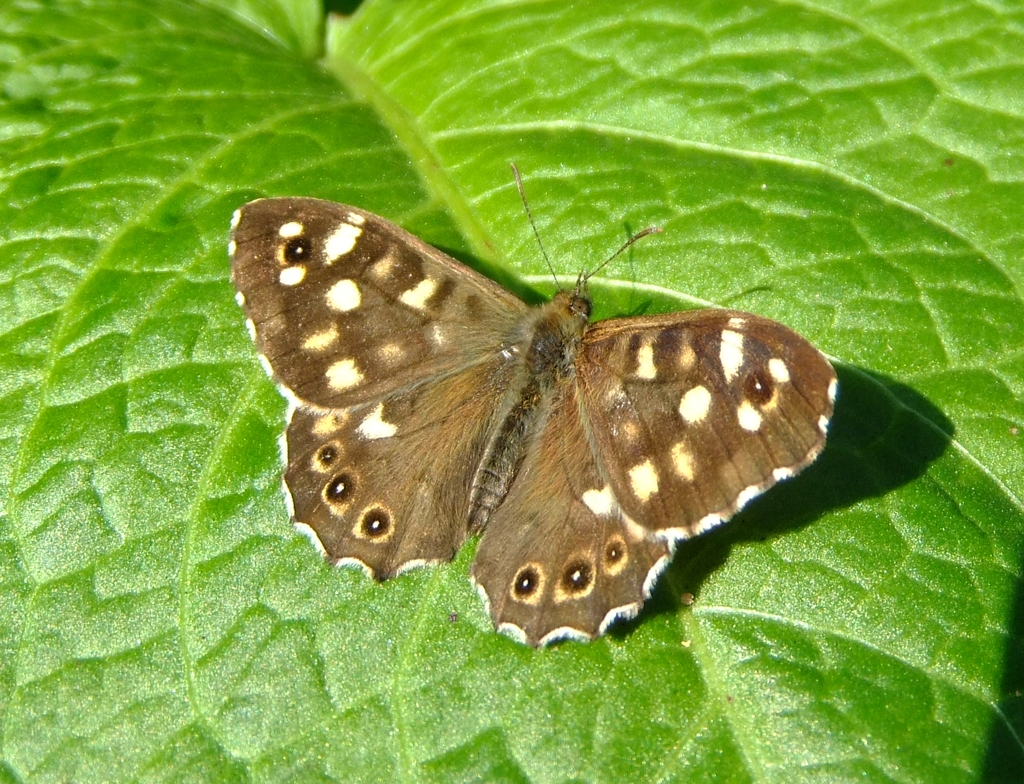Butterfly: (218, 188, 839, 637)
